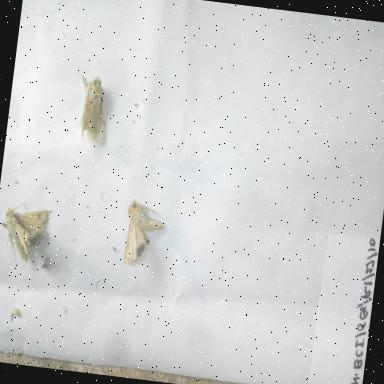abw: (110, 195, 170, 277), (70, 65, 118, 150), (0, 197, 55, 269)
